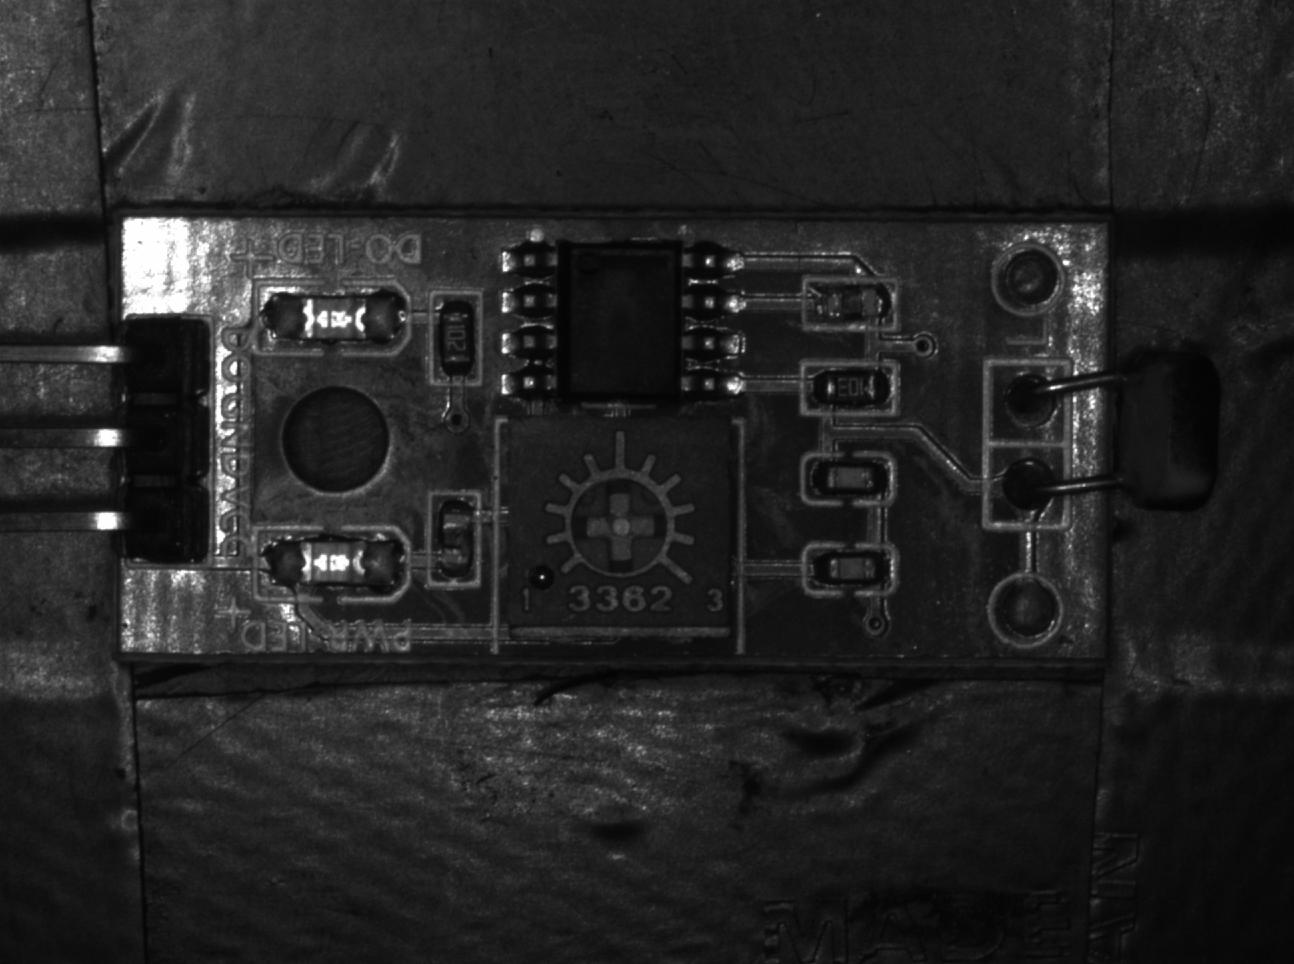miss: (804, 274, 899, 333), (428, 491, 480, 584)
ok: (801, 536, 894, 598), (803, 356, 898, 414), (794, 454, 895, 505), (431, 291, 485, 388)
